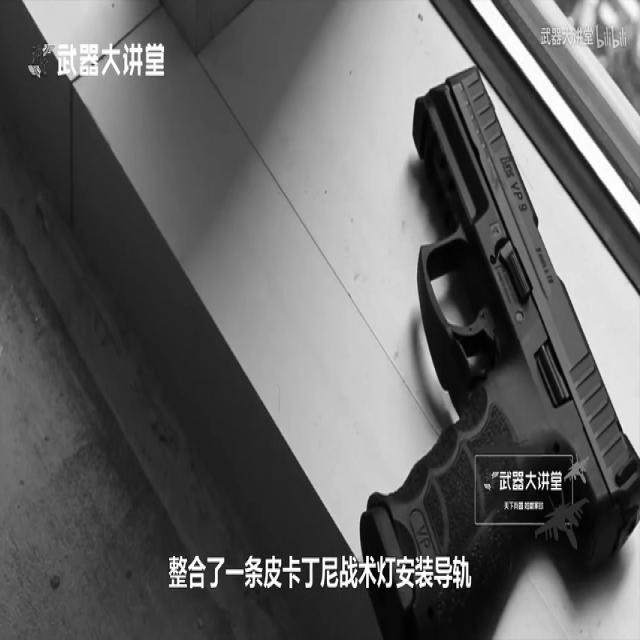Hand-Gun: (360, 57, 640, 630)
